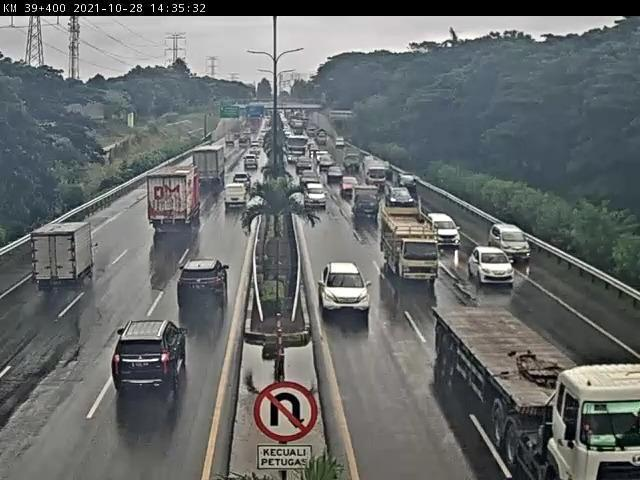car: (112, 323, 187, 392), (180, 262, 231, 313), (323, 262, 372, 314), (469, 250, 510, 285), (495, 224, 532, 259), (427, 216, 459, 246), (347, 179, 372, 207), (223, 184, 248, 207), (390, 169, 414, 191), (382, 184, 408, 203), (305, 185, 326, 205), (342, 176, 360, 198), (233, 174, 254, 190), (245, 156, 262, 171), (297, 161, 313, 174), (303, 173, 319, 186), (323, 159, 336, 173), (329, 168, 342, 182), (318, 150, 329, 161)
truck: (436, 308, 640, 480), (32, 222, 103, 289), (380, 209, 439, 283), (142, 170, 201, 234), (194, 147, 229, 188), (366, 158, 390, 184), (286, 136, 308, 163), (344, 150, 363, 172)
